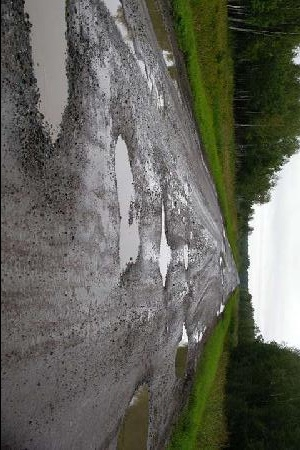pothole: (18, 0, 75, 148), (112, 130, 143, 287), (117, 378, 155, 450), (156, 199, 173, 290), (172, 321, 194, 381), (182, 242, 192, 272), (216, 301, 227, 317)
